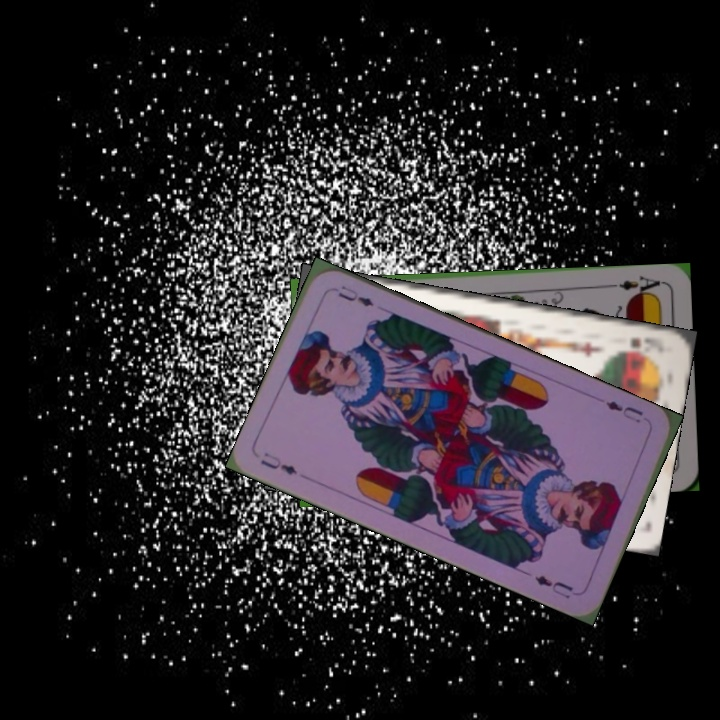EA: (605, 271, 665, 299)
EU: (602, 396, 646, 426), (256, 448, 300, 478)
SK: (627, 333, 668, 356)
